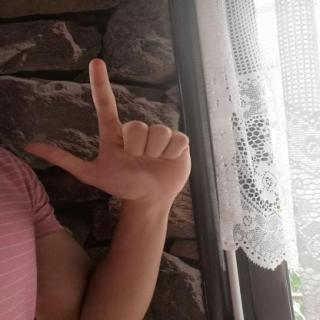LAAM: (8, 51, 200, 210)
